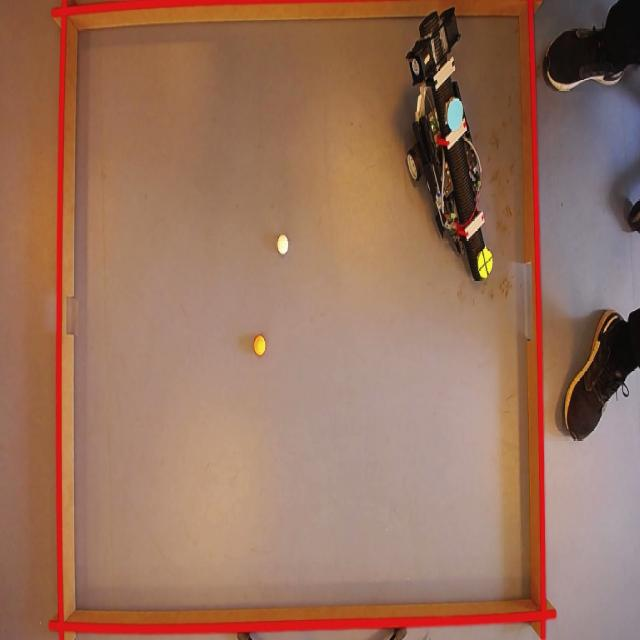orange: (254, 335, 268, 357)
robot: (404, 2, 495, 291)
robot-front: (477, 248, 493, 280)
robot-rear: (446, 97, 463, 132)
white: (276, 234, 289, 254)
